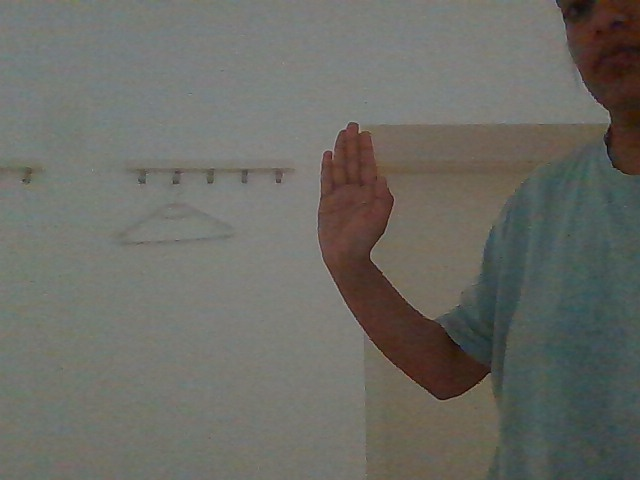open_hand: (301, 120, 403, 277)
